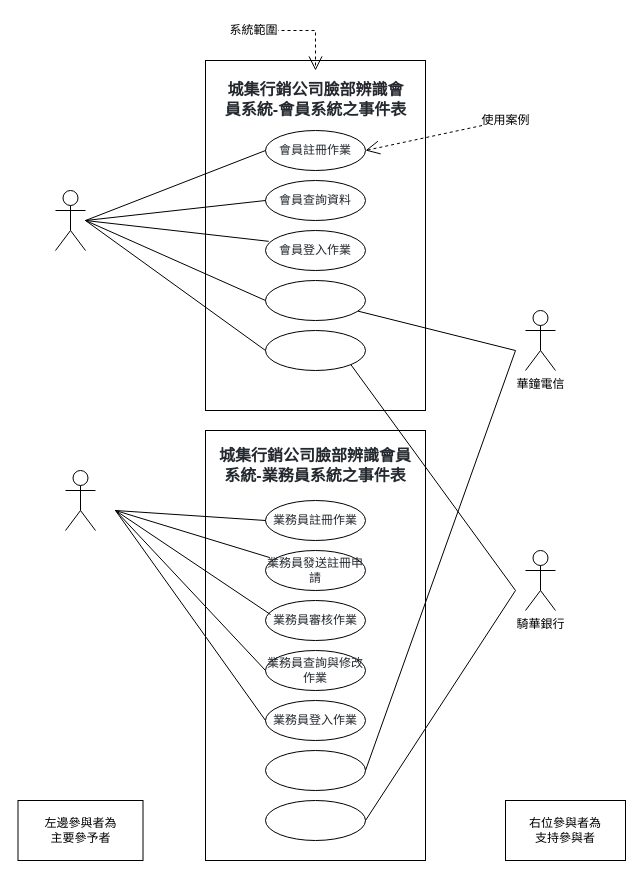
This 643x878 diagram has some shape labels left out. Here are the shapes that lost their labels. From the top down, the centre of each, then its label:
At point (70, 220): "會員".
At point (315, 300): "系統溝通作業".
At point (315, 350): "系統線上付款作業".
At point (80, 500): "業務員".
At point (315, 770): "會員溝通作業".
At point (315, 820): "系統線上收款作業".
